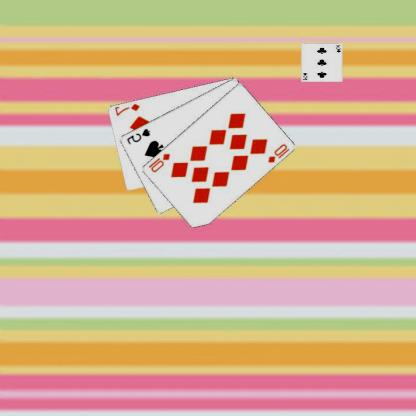10D: (147, 150, 173, 174), (267, 142, 292, 165)
5S: (126, 126, 153, 146)
7D: (114, 101, 142, 117)
